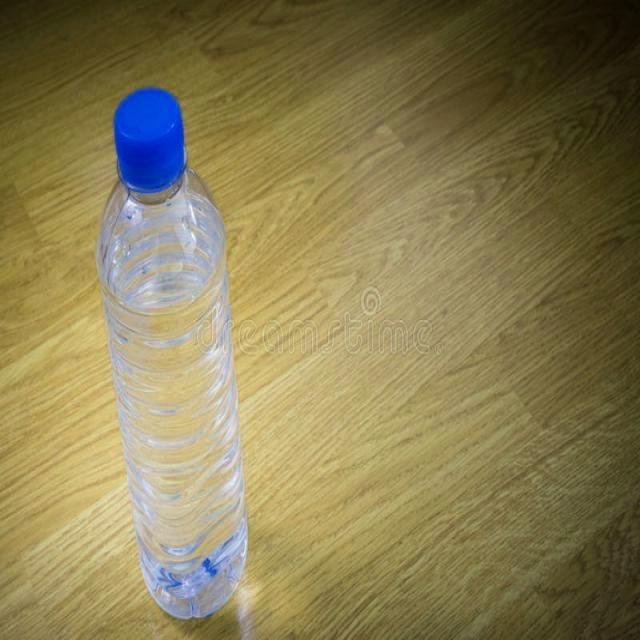bottle: (96, 88, 248, 618)
